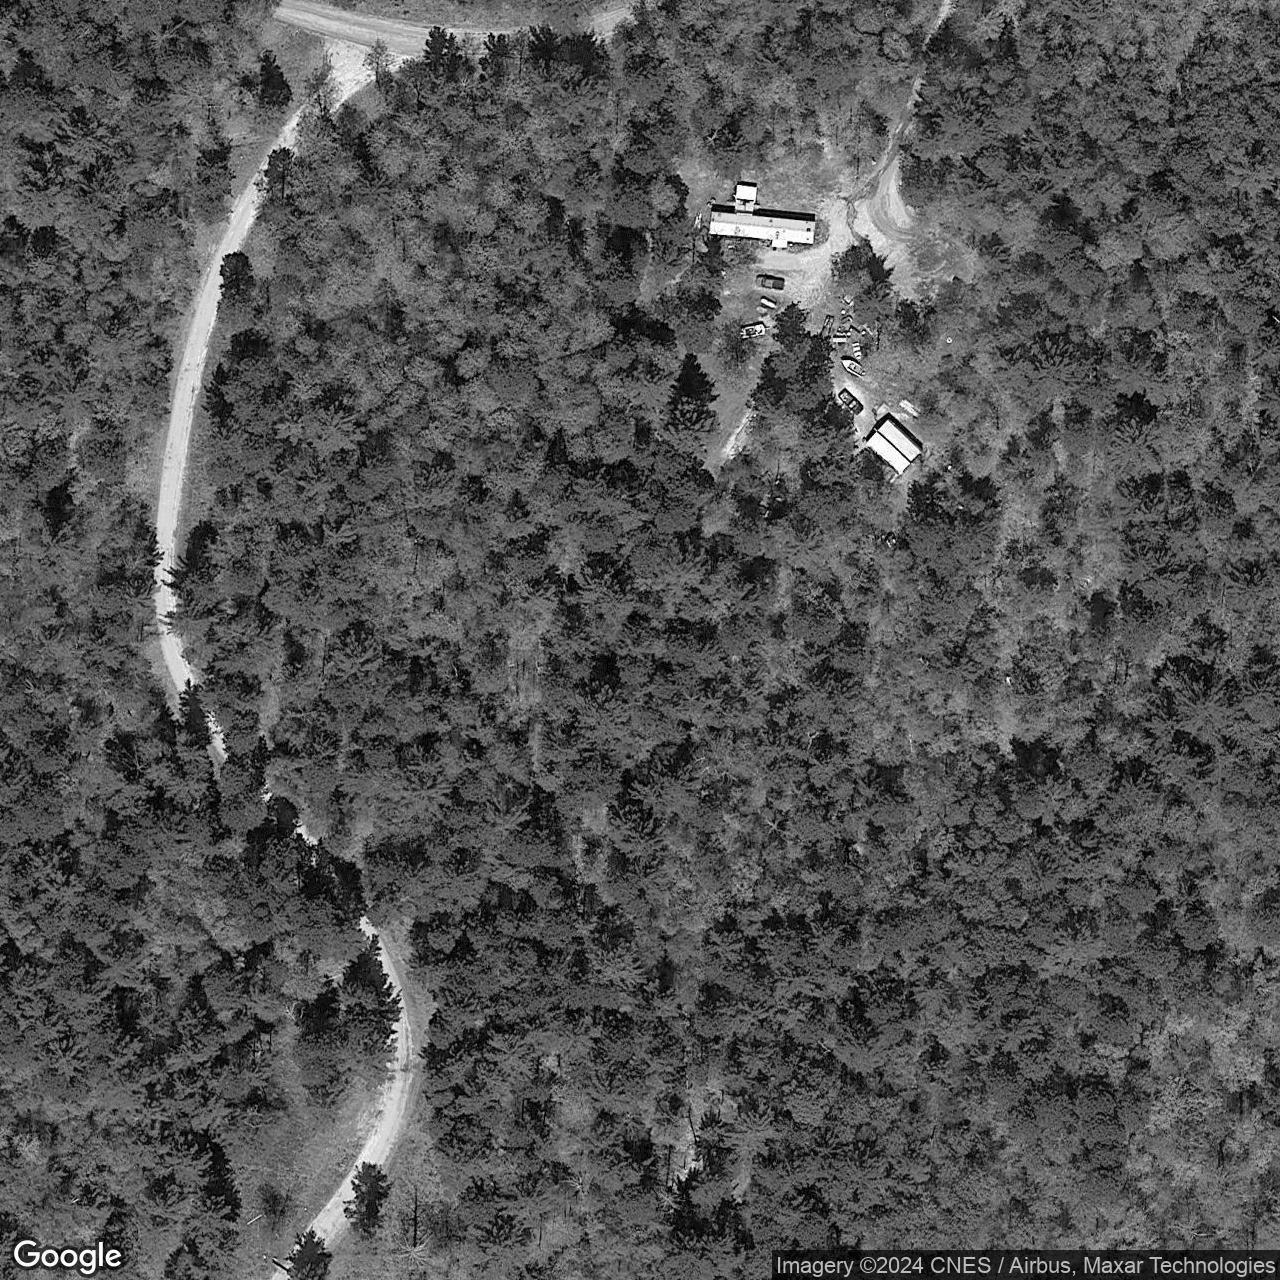Garage: (864, 416, 926, 477)
Propane: (757, 293, 779, 311)
Trailer: (708, 210, 817, 248)
